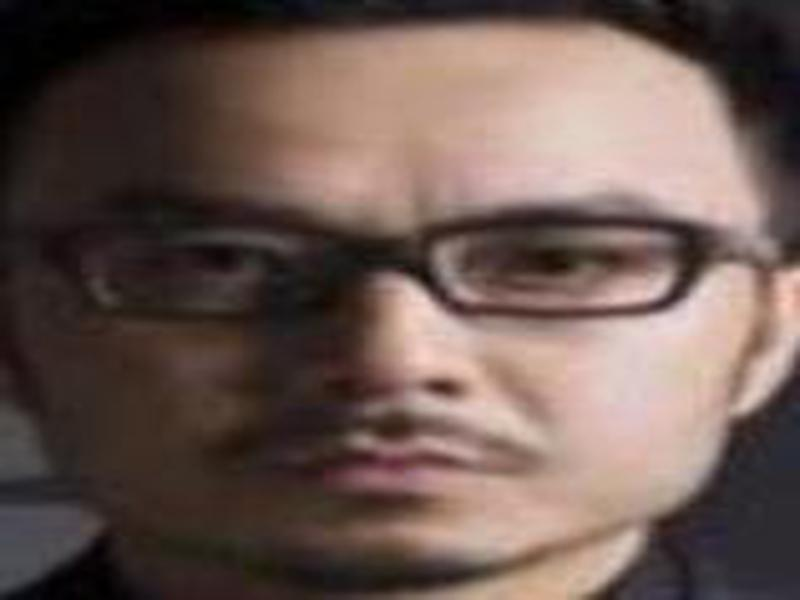without_mask: (19, 31, 749, 576)
